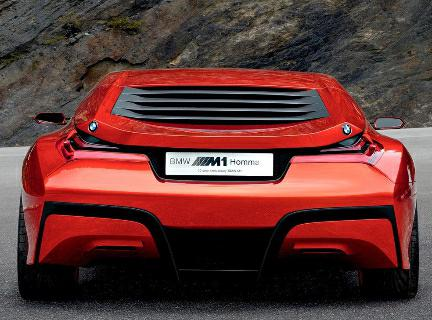宝马-M1: (12, 63, 425, 300)
